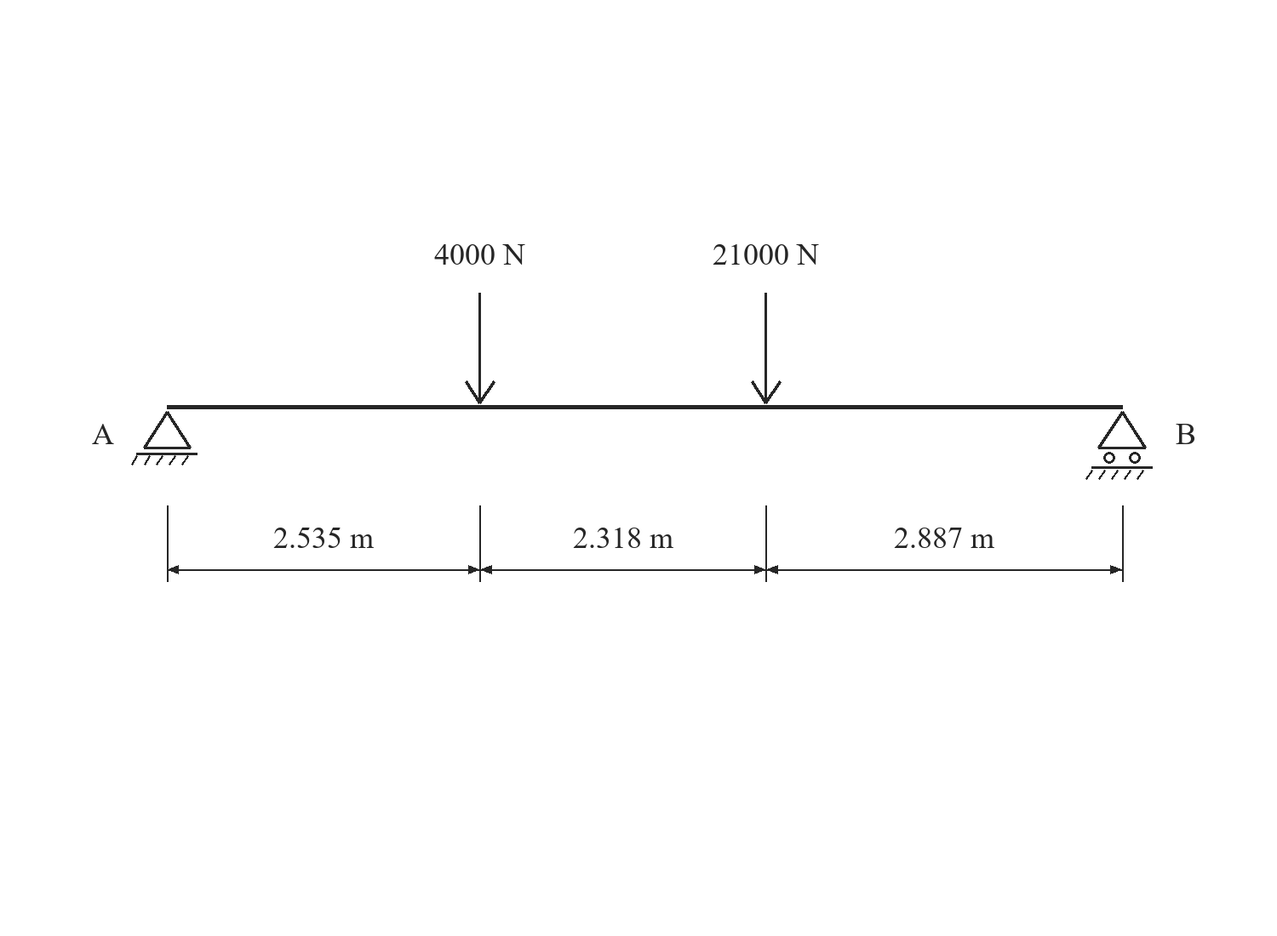pin_support: (131, 411, 198, 465)
point_load: (751, 293, 782, 404), (465, 293, 495, 404)
roller_support: (1085, 411, 1153, 480)
